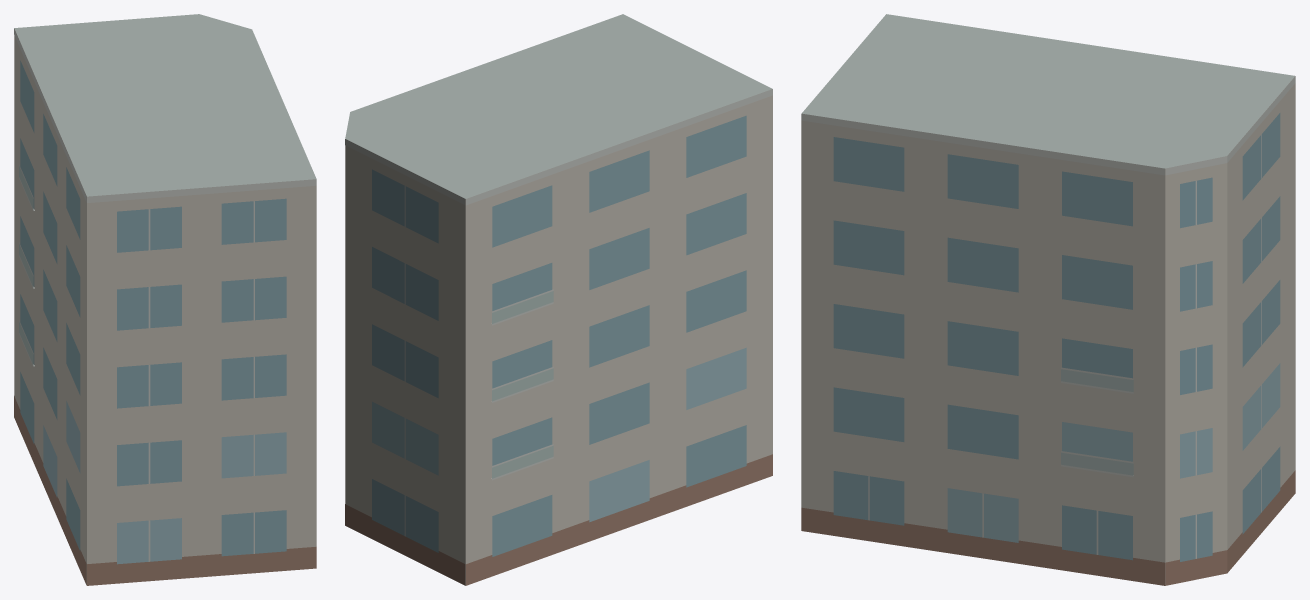
The model's file is survey-upis-32854345.glb.
3 views of the same model, side by side, from view 1: azimuth 30°, elevation 25°; view 2: azimuth 150°, elevation 25°; view 3: azimuth 270°, elevation 25° (orthographic). The views are drawn at different scales.
Parts seen in each view (by area): view 1: survey-upis-32854345.tmp; view 2: survey-upis-32854345.tmp; view 3: survey-upis-32854345.tmp.
Part boxes in pixels (x1,y1,x2,y2): survey-upis-32854345.tmp: (14, 14, 316, 585); survey-upis-32854345.tmp: (345, 14, 772, 585); survey-upis-32854345.tmp: (801, 14, 1295, 585).
Bounding box in the file's own units: 11.56 × 14.55 × 15.62.
